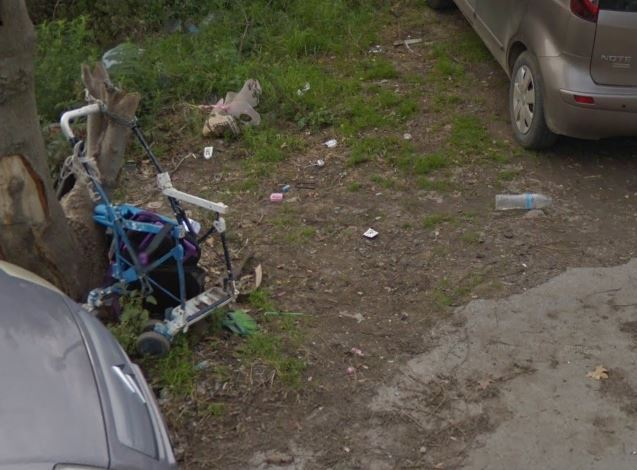trash: (43, 93, 250, 383), (193, 63, 305, 163), (483, 185, 559, 215)
